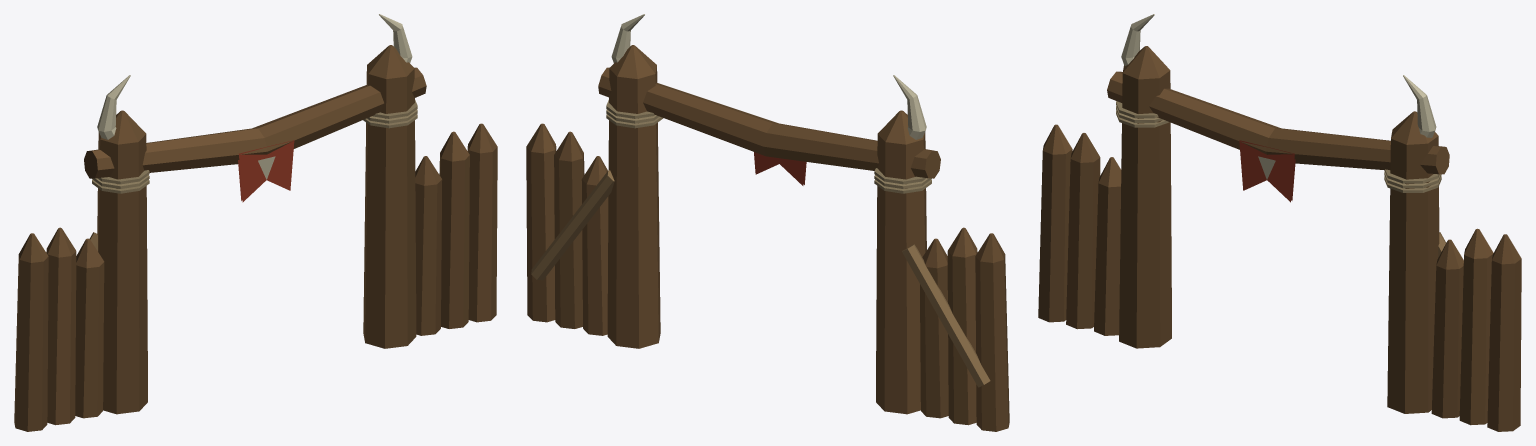
Rendered from palisade-gate.glb.
The picture shows the model from 3 angles, left to right: view 1: azimuth 30°, elevation 25°; view 2: azimuth 150°, elevation 25°; view 3: azimuth 330°, elevation 25°; orthographic projection.
Visible parts, largest first — view 1: palisade-gate; view 2: palisade-gate; view 3: palisade-gate.
Part boxes in pixels (box(x1,y1,x2,y2)): palisade-gate: box(14, 14, 497, 431); palisade-gate: box(526, 14, 1009, 431); palisade-gate: box(1038, 14, 1521, 431).
Bounding box in the file's own units: 4.82 × 3.14 × 0.5023.
